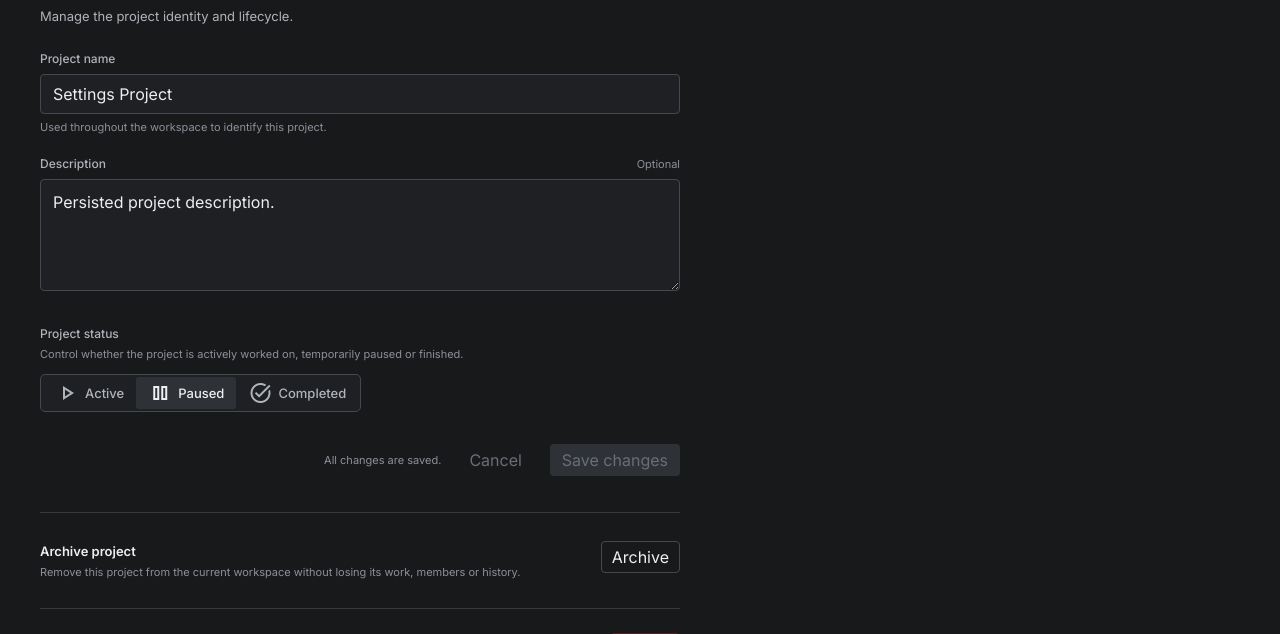
Project Settings page › archives the project through the existing confirmation flow
(page scrolled)
Expected: the field labelled "Project name" holds "Settings Project", x1=40 y1=74 x2=680 y2=114
Click the button "Archive".
click(640, 557)  # box x1=601 y1=541 x2=680 y2=573
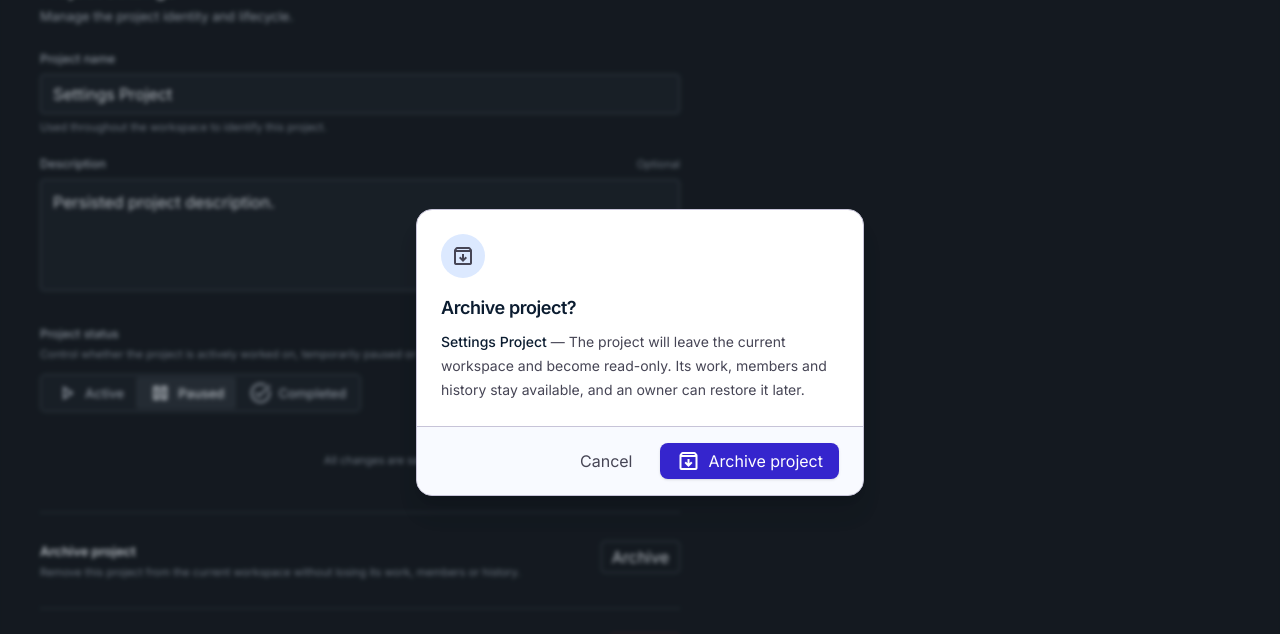
Click the button "Archive project".
click(750, 460)  # box x1=660 y1=442 x2=839 y2=478
(page scrolled)
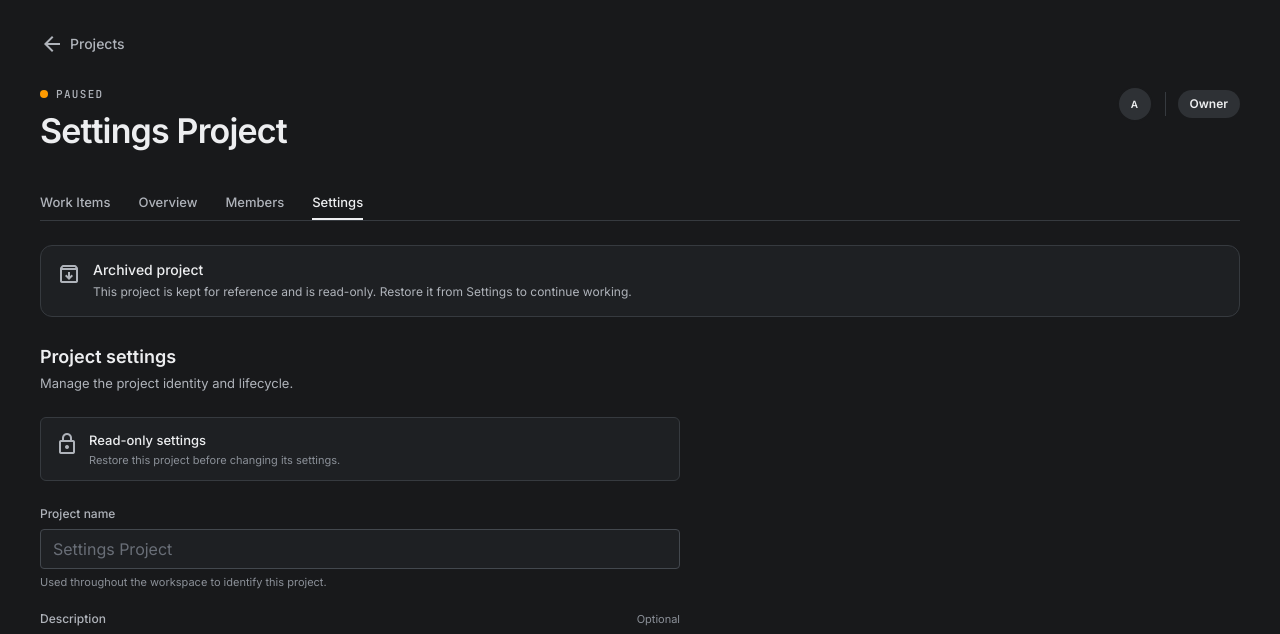
Expected: the text "Archived project" is shown, x1=93 y1=261 x2=203 y2=278
